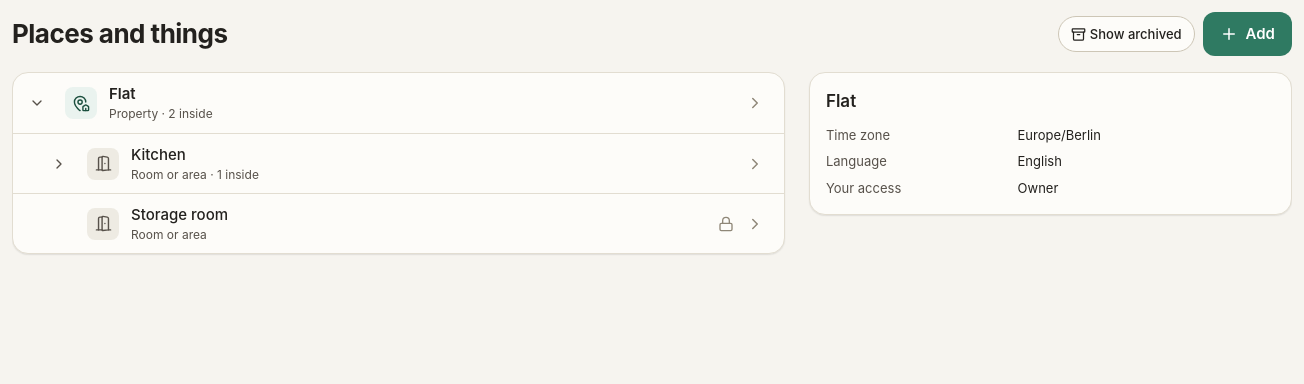
Test: PlacesPage › shows archived entities, also inside places whose count leaves them out
Expected: the link "Kitchen Room or area · 1 inside" is shown, 79,140 -> 772,188
Step 1. Click the button "Show archived" → (1126, 34), box 1058,16 -> 1195,52
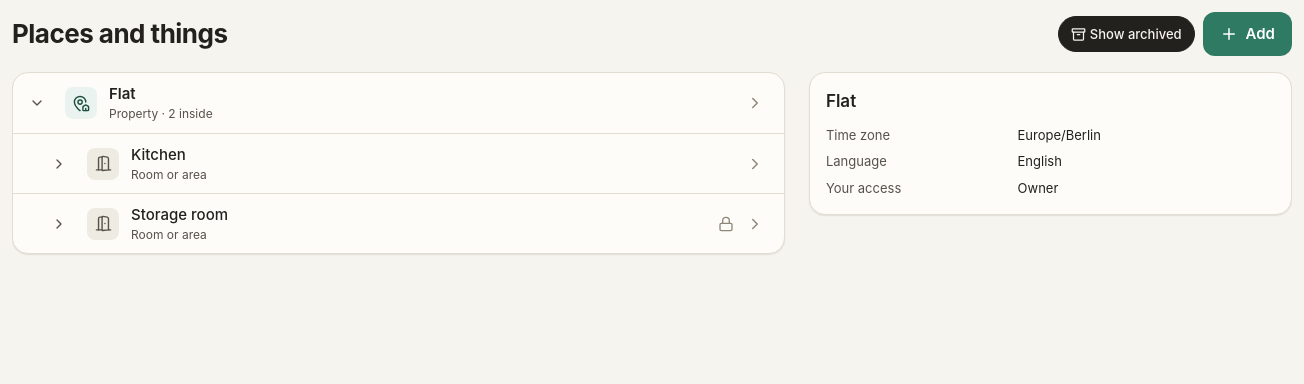
Step 2. Click the button named "Show what is inside Storage room" → (59, 224), box 43,208 -> 75,240
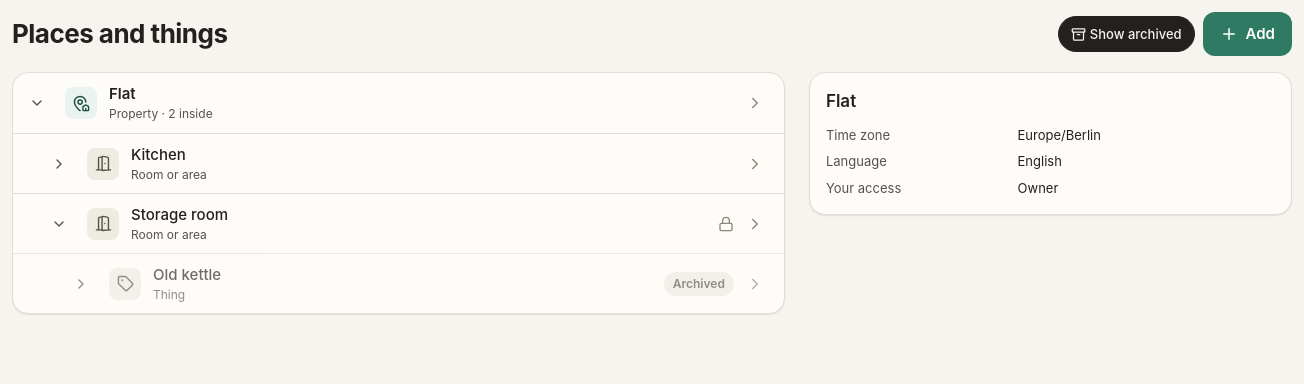
Expected: the link "Old kettle Thing Archived" is shown, 101,260 -> 772,308
Step 3. Click the button named "Show what is inside Kitchen" → (59, 164), box 43,148 -> 75,180
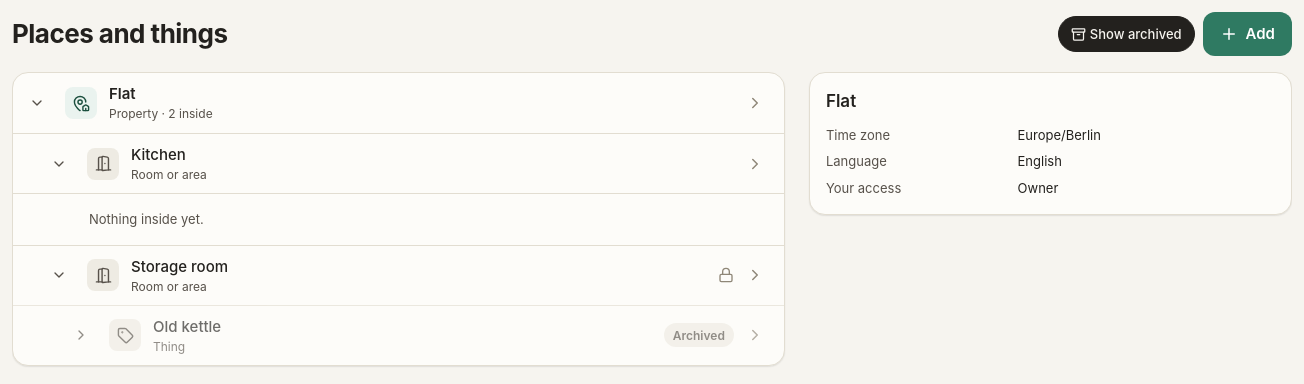
Expected: the text "Nothing inside yet." is shown, 89,211 -> 204,227
